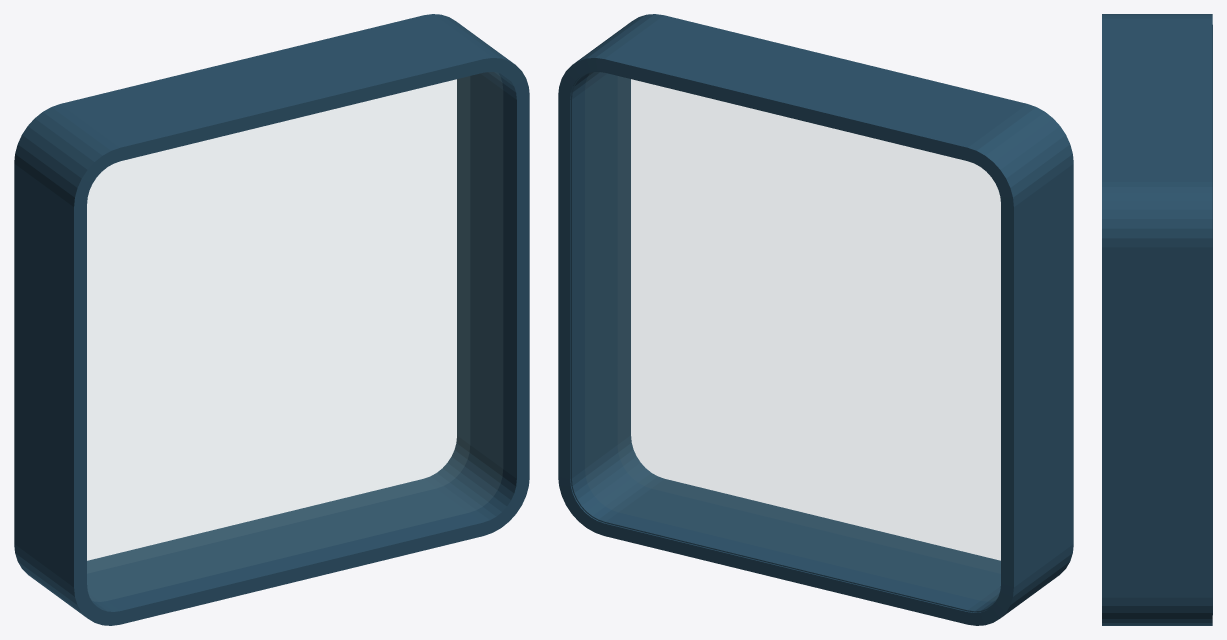
Rendered from window_single.glb.
3 renders of one model, left to right at view 1: azimuth 30°, elevation 25°; view 2: azimuth 150°, elevation 25°; view 3: azimuth 270°, elevation 25°, orthographic. The views are drawn at different scales.
Visible parts, largest first — view 1: windowGlass, windowFrame; view 2: windowGlass, windowFrame; view 3: windowFrame.
Part boxes in pixels (box(x1,y1,x2,y2)): windowGlass: box(87, 76, 469, 573); windowFrame: box(14, 14, 529, 625); windowGlass: box(618, 76, 1000, 573); windowFrame: box(558, 14, 1073, 625); windowFrame: box(1102, 14, 1212, 625).
Bounding box in the file's own units: 3.01 × 3.01 × 0.688.
